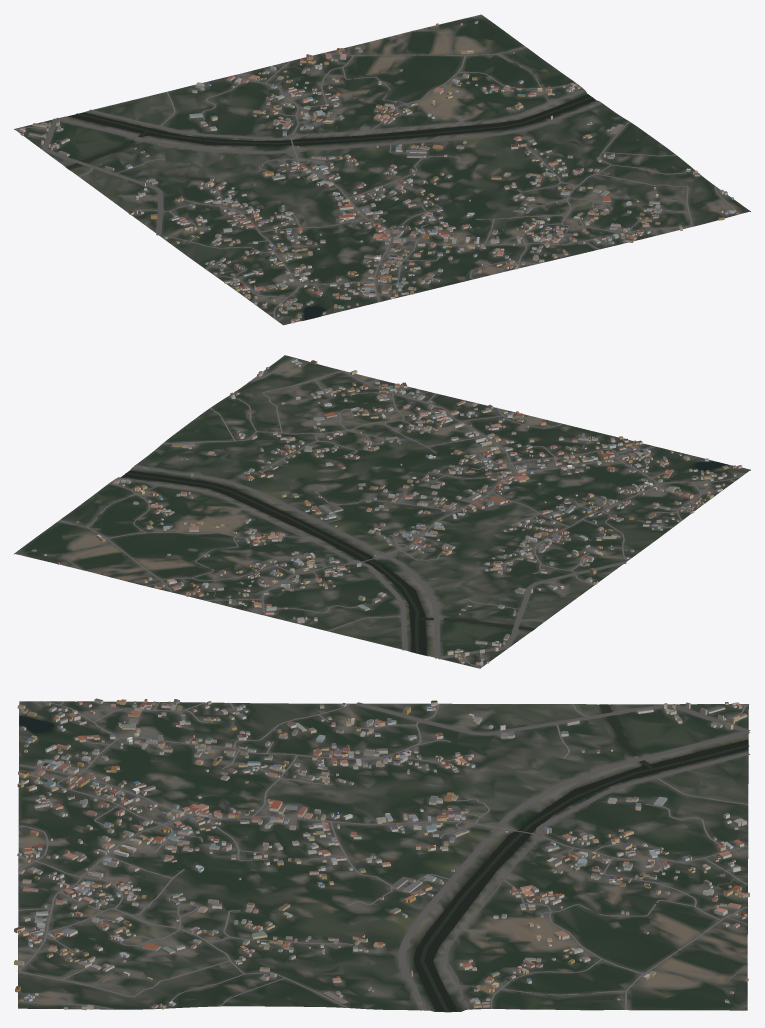
3 renders of one model, top to bottom at view 1: azimuth 30°, elevation 25°; view 2: azimuth 150°, elevation 25°; view 3: azimuth 270°, elevation 25°, orthographic. The views are drawn at different scales.
Parts seen in each view (by area): view 1: ground, buildings, roads, water; view 2: ground, buildings, roads, water; view 3: ground, buildings, roads, water.
Part boxes in pixels (x1,y1,x2,y2): ground: [14, 14, 750, 325]; buildings: [19, 21, 738, 323]; roads: [15, 29, 739, 319]; water: [66, 94, 595, 319]; ground: [14, 355, 750, 668]; buildings: [31, 358, 742, 665]; roads: [59, 359, 742, 668]; water: [122, 461, 728, 655]; ground: [18, 701, 748, 1012]; buildings: [14, 698, 749, 1010]; roads: [17, 701, 750, 1010]; water: [19, 704, 749, 1011].
Bounding box in the file's own units: 1406 × 17.09 × 1416.
